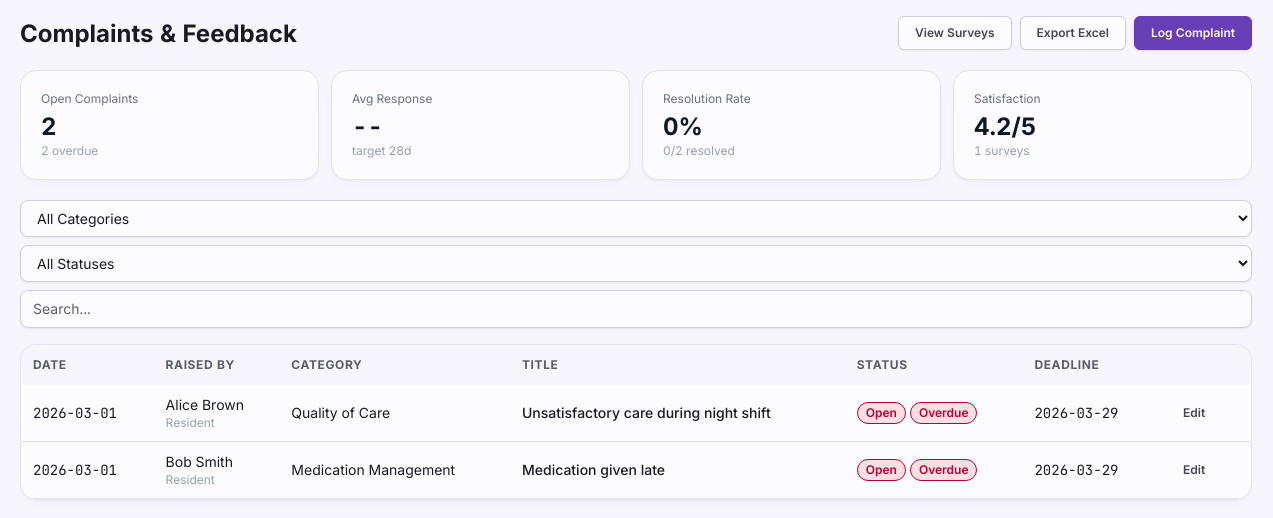
Test: ComplaintsTracker › category filter narrows the complaints list
Check: the text "Unsatisfactory care during night shift" is shown, box [522,404,771,421]
Check: the text "Medication given late" is shown, box [522,461,665,478]
Select "Quality of Care" in the dropdown showing "All Categories" at (636, 218), box [20,200,1252,237]
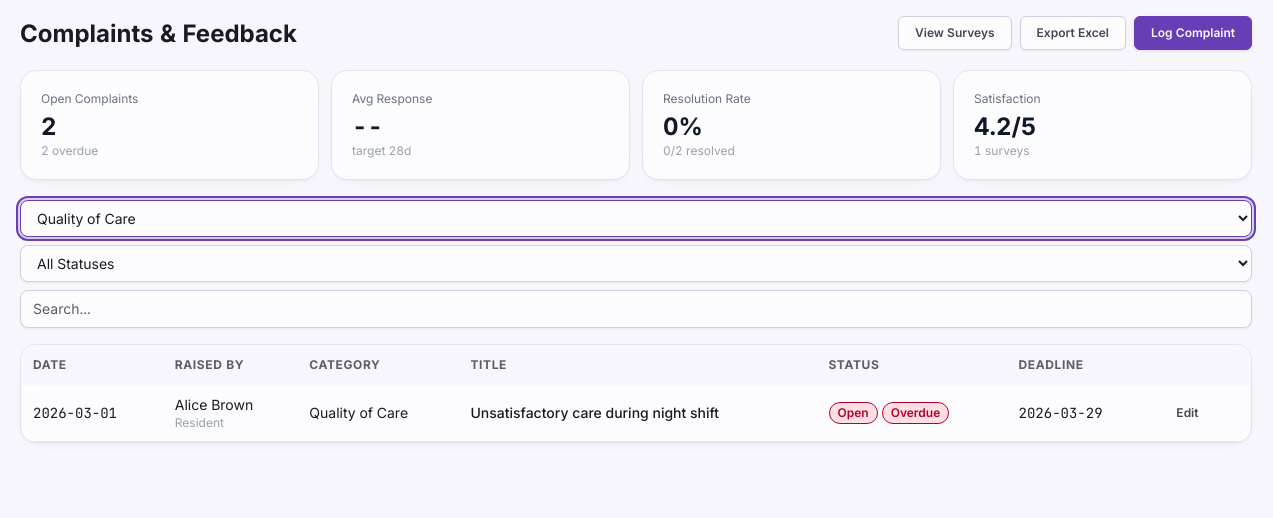
Check: the text "Unsatisfactory care during night shift" is shown, box [470,404,719,421]
Check: the text "Medication given late" is gone
